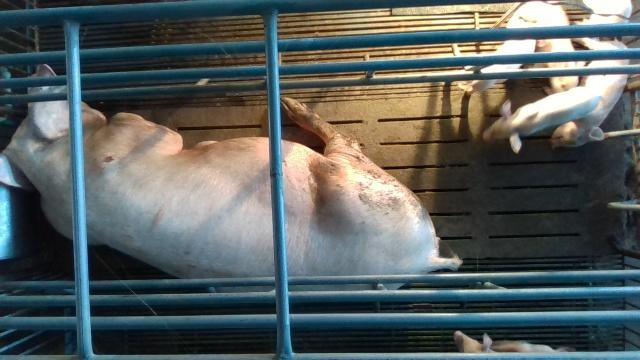piglet: (552, 37, 632, 148), (482, 88, 605, 154), (507, 5, 588, 95), (463, 15, 546, 95), (453, 330, 575, 352)
sow-sit: (1, 63, 462, 290)
